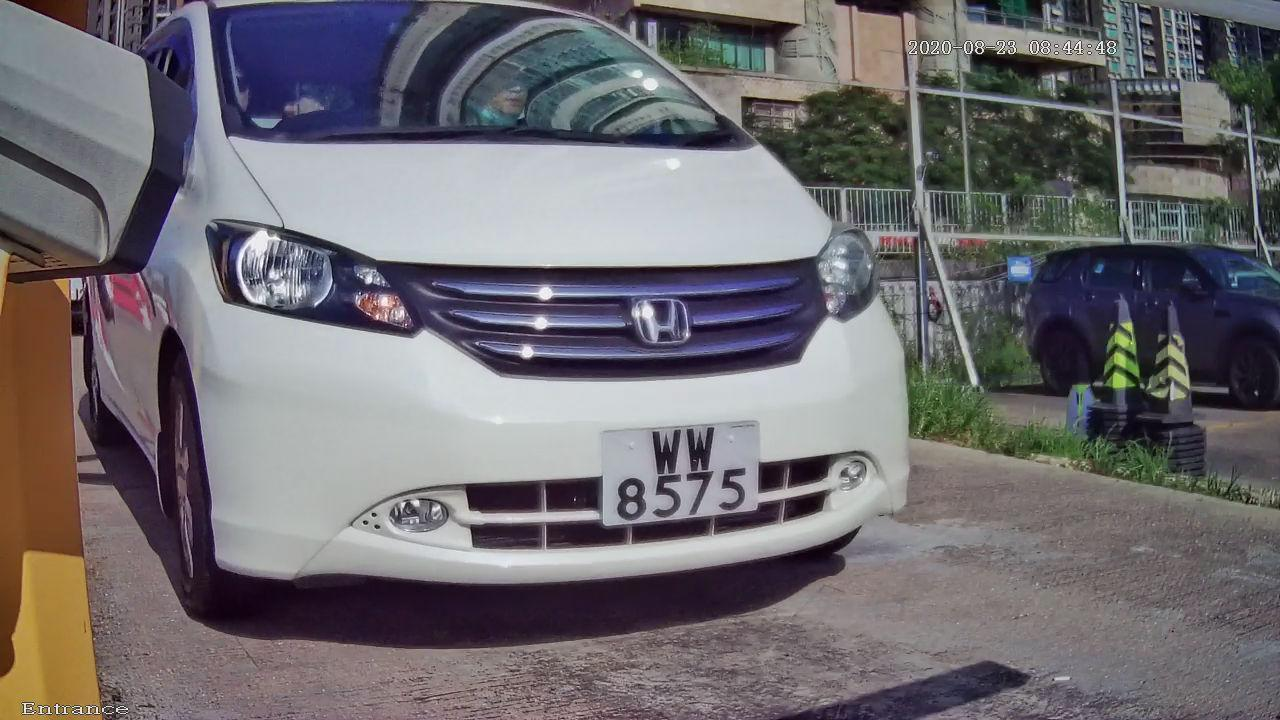License Plate: (583, 412, 778, 537)
